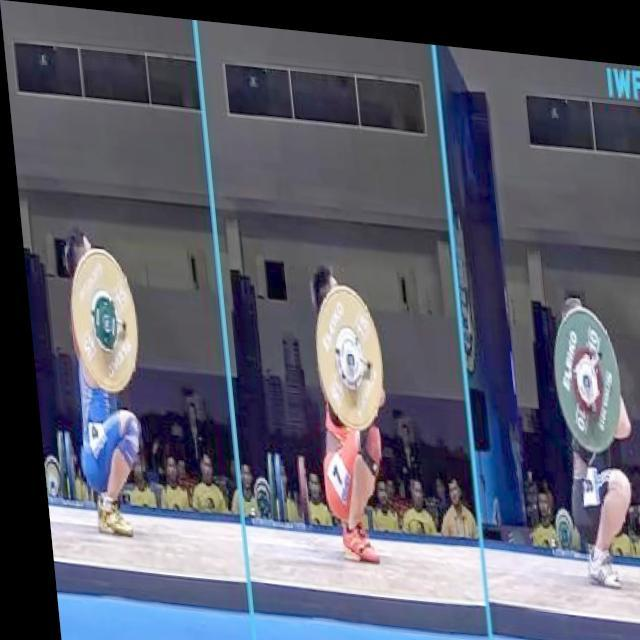barbell: (300, 271, 385, 435), (58, 240, 142, 398), (540, 290, 621, 447)
